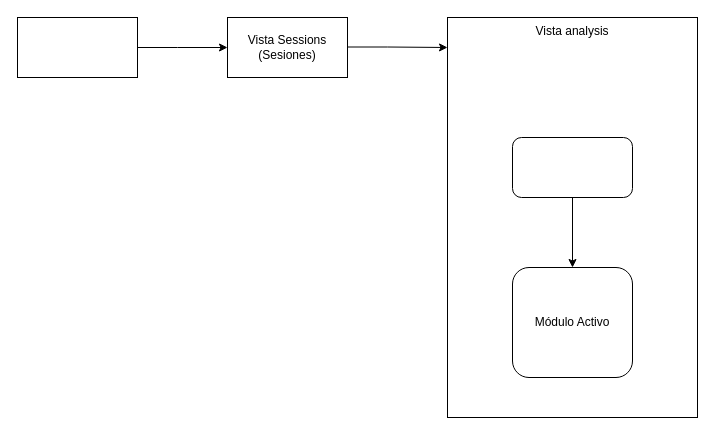
Image size: 715x435. Some labels were removed from this diagram. The shapes that lost their labels are listed below. From the top down, each one's box as (x1, y1, x2, y2) in pixels, then its label:
(16, 16, 138, 78): Vista Grid (Mapa de GPs)
(512, 136, 632, 198): HUB
